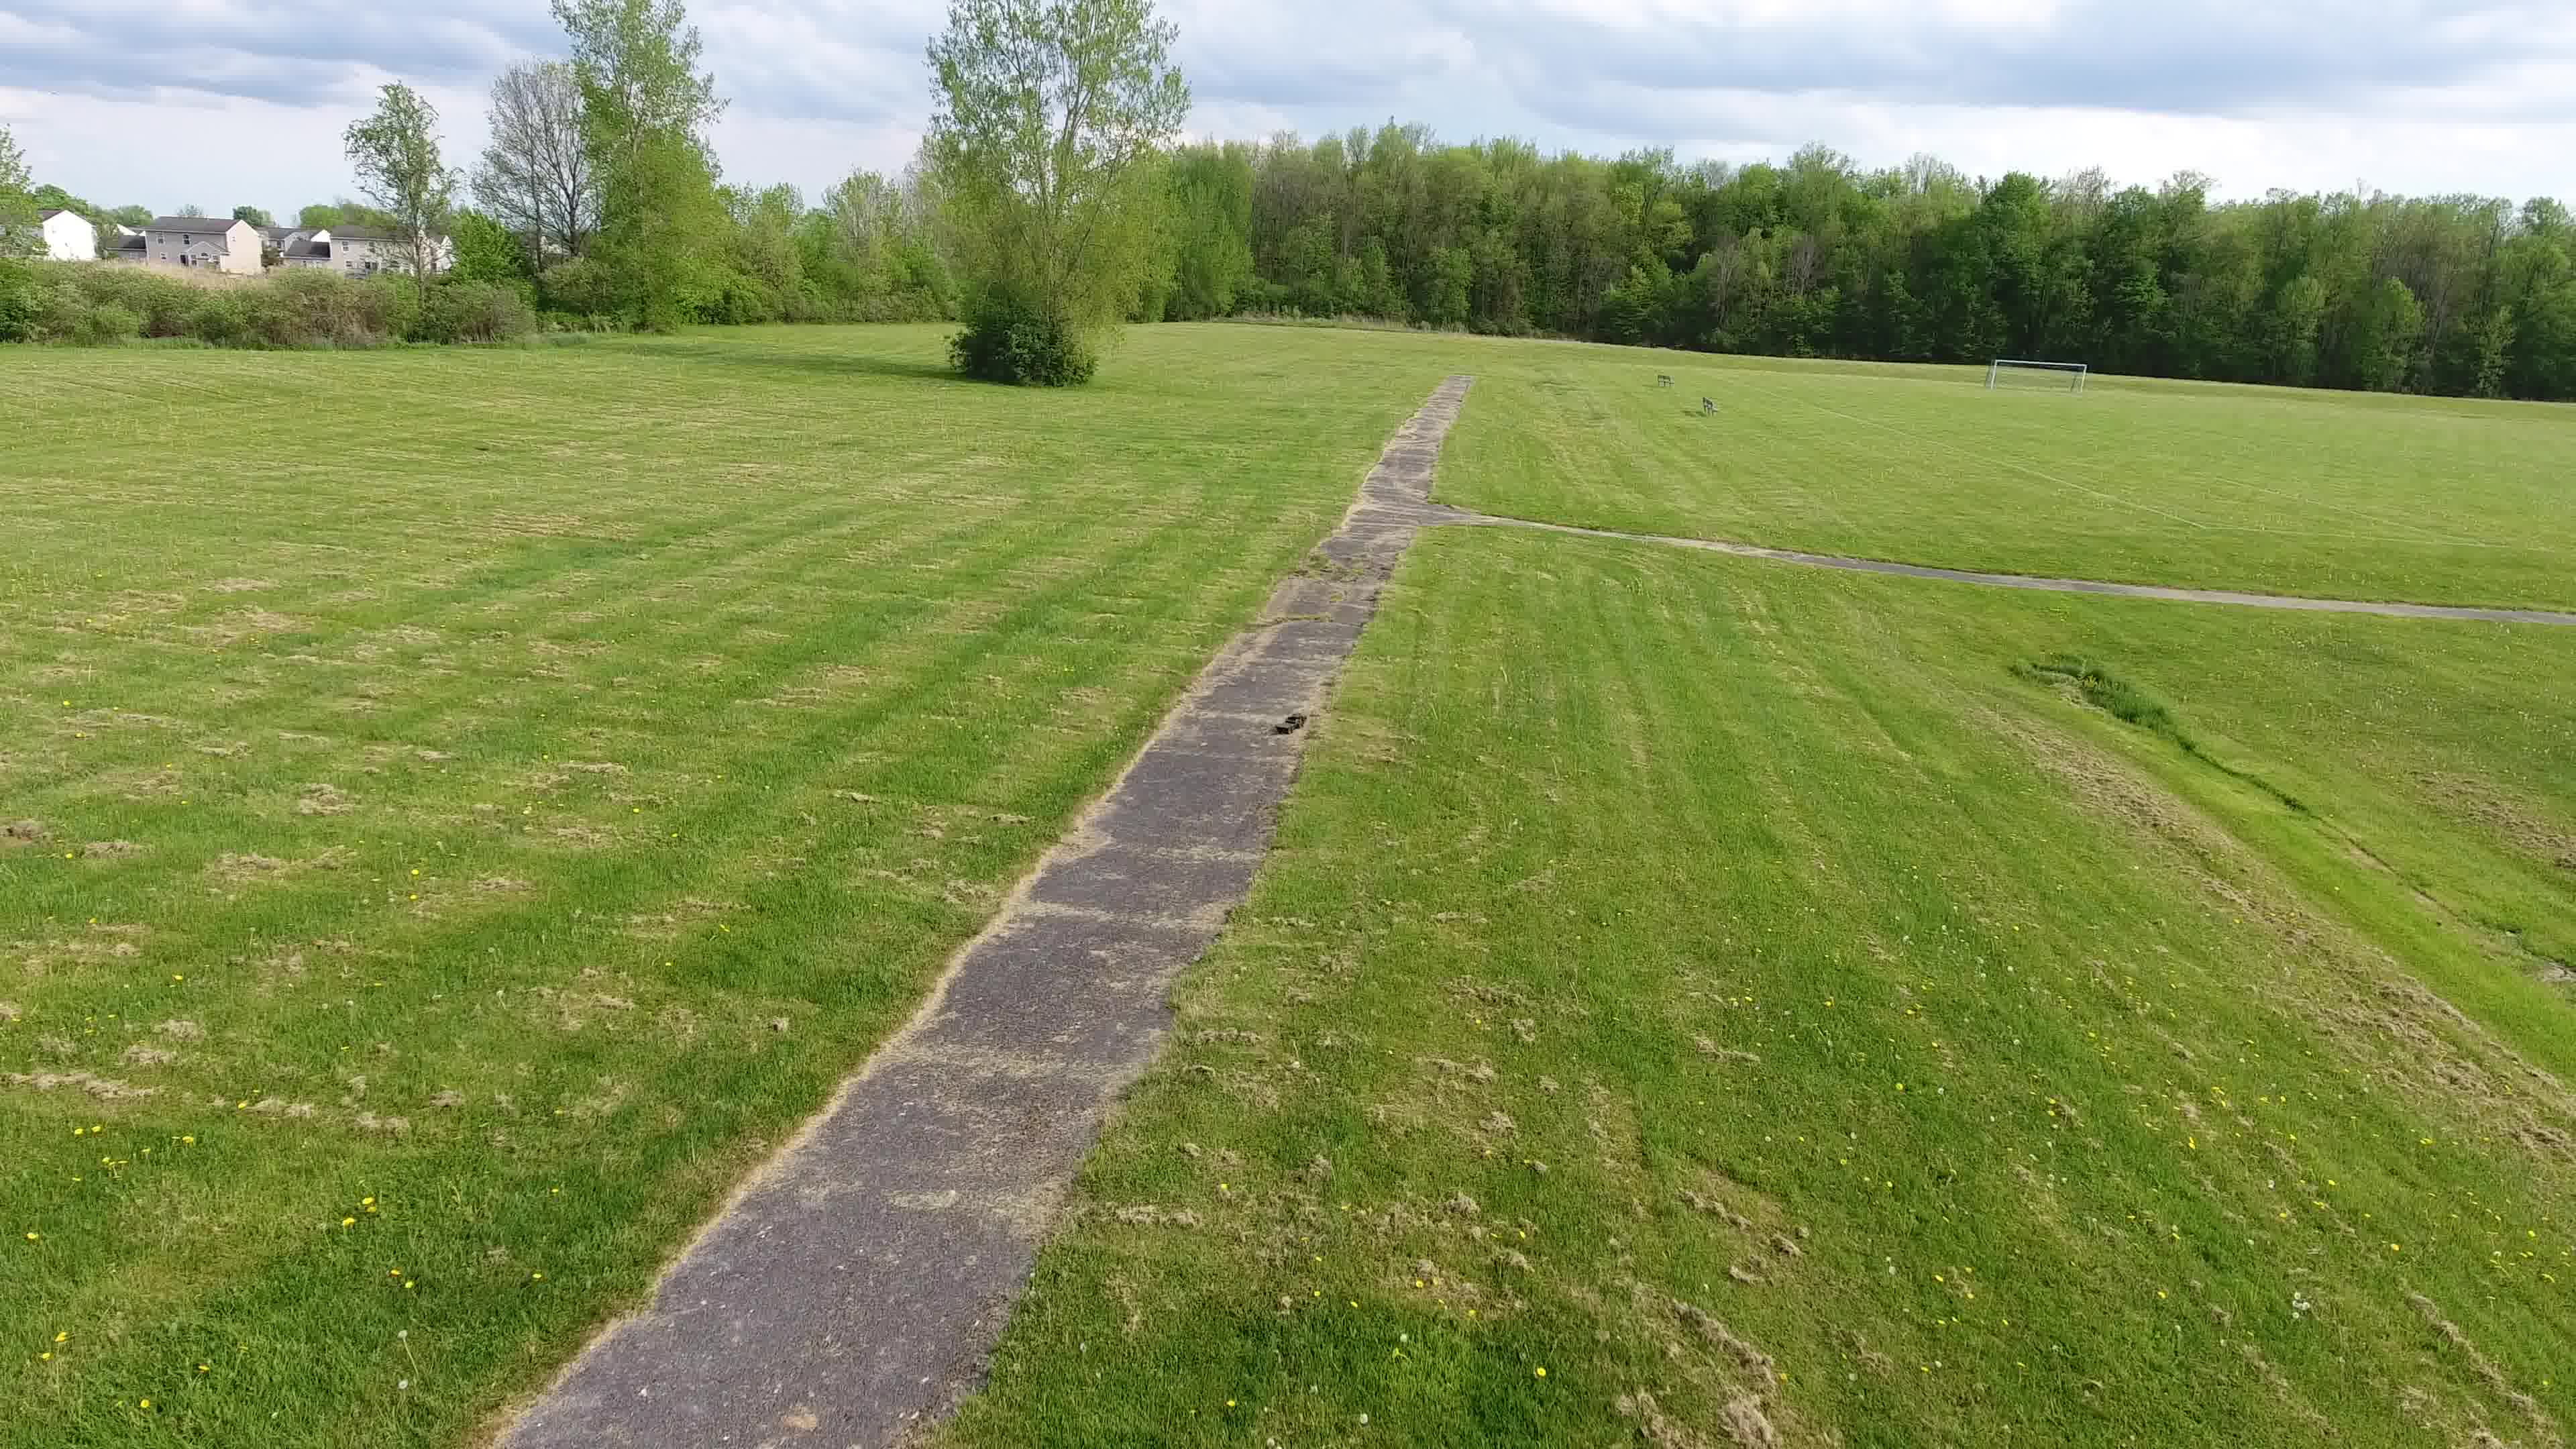transporter9: (1274, 709, 1307, 736)
